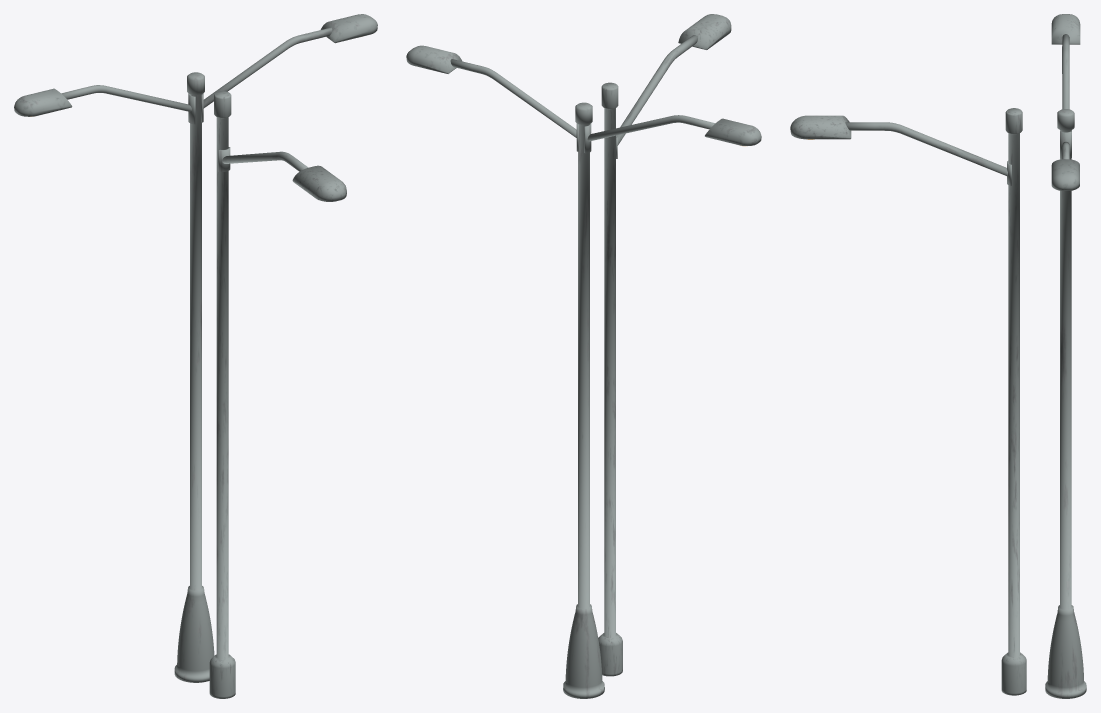
The model's file is light.glb.
The picture shows the model from 3 angles, left to right: view 1: azimuth 30°, elevation 25°; view 2: azimuth 150°, elevation 25°; view 3: azimuth 270°, elevation 25°; orthographic projection. The views are drawn at different scales.
Parts seen in each view (by area): view 1: Street Light 2, Street Light 1; view 2: Street Light 2, Street Light 1; view 3: Street Light 2, Street Light 1.
Part boxes in pixels (box(x1,y1,x2,y2)): Street Light 2: box(14, 14, 377, 682); Street Light 1: box(209, 91, 346, 698); Street Light 2: box(406, 45, 761, 698); Street Light 1: box(598, 14, 731, 676); Street Light 2: box(1045, 14, 1086, 698); Street Light 1: box(790, 108, 1026, 695).
Bounding box in the file's own units: 3.46 × 5.68 × 2.56.
4 materials, 4 textured.
